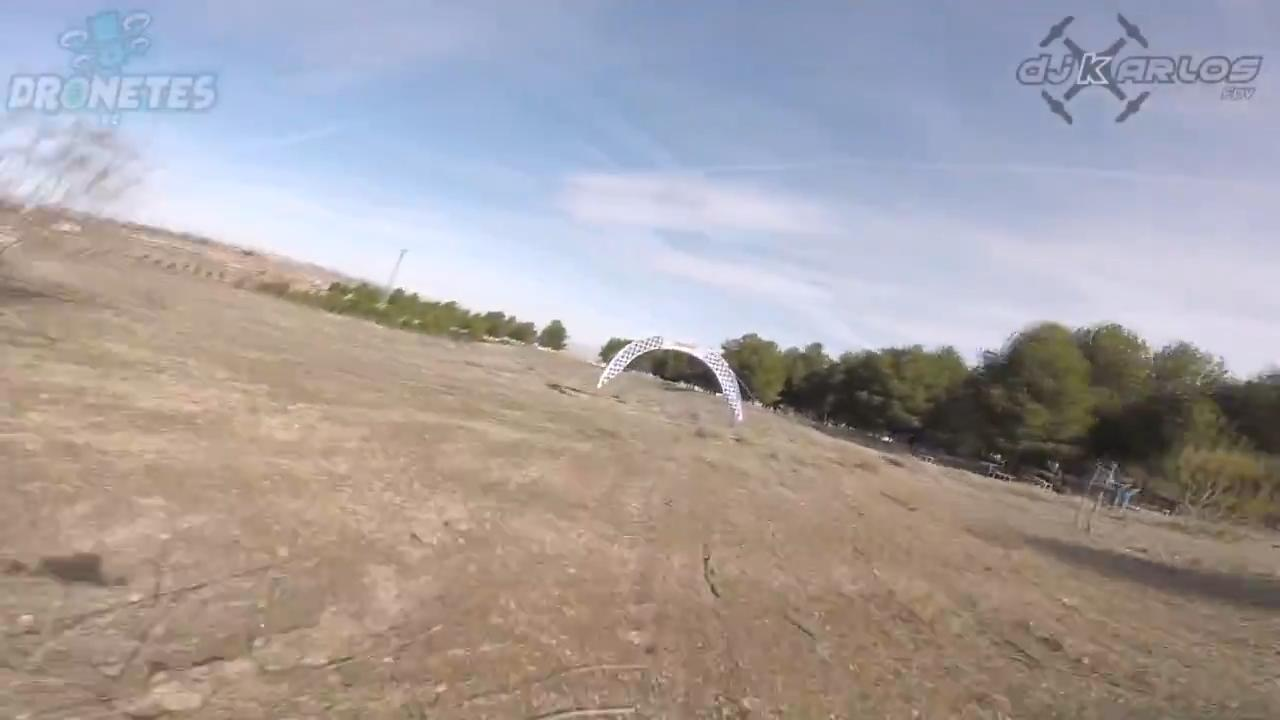gate: (597, 334, 743, 425)
